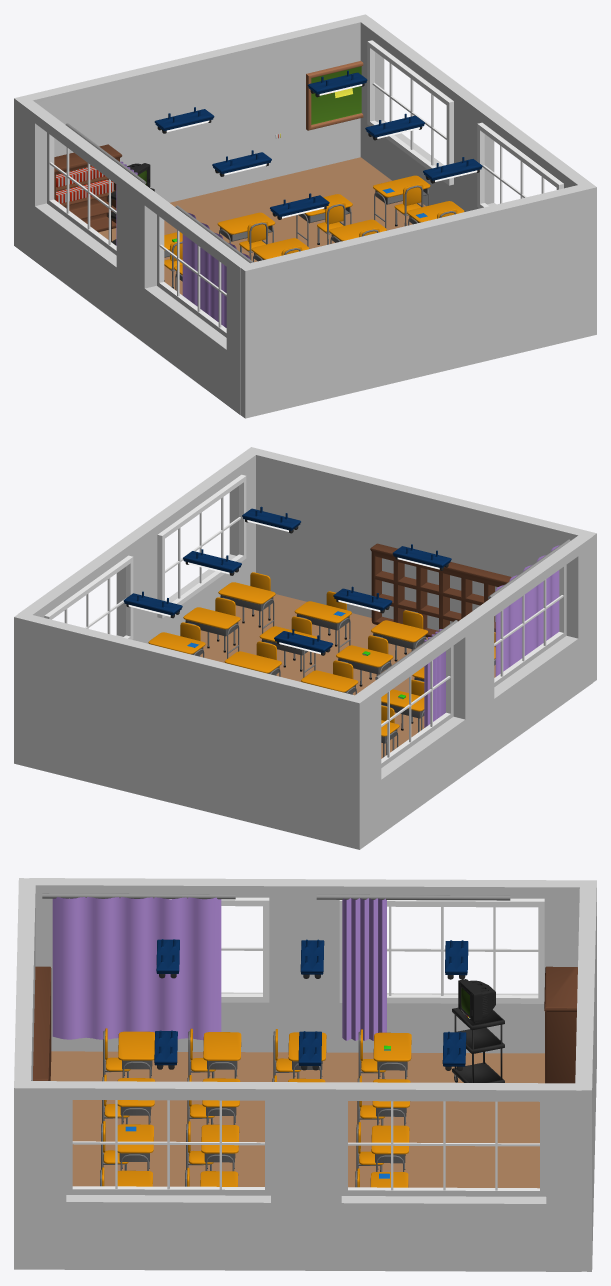
Rendered from V1_DemoClassroom.glb.
3 views of the same model, one above another, from view 1: azimuth 30°, elevation 25°; view 2: azimuth 150°, elevation 25°; view 3: azimuth 270°, elevation 25° (orthographic). The views are drawn at different scales.
Parts seen in each view (by area): view 1: demoscene_21.001, demoscene_21, demoscene_7, demoscene_10, demoscene_18, demoscene_1, demoscene_8, demoscene_15; view 2: demoscene_21, demoscene_21.001, demoscene_7, demoscene_9, demoscene_10, demoscene_18, demoscene_19; view 3: demoscene_21.001, demoscene_21, demoscene_18, demoscene_7, demoscene_19, demoscene_10, demoscene_8, demoscene_13, demoscene_9.
Boxes of the visible parts, x1,y1,x2,y2 form: demoscene_21.001: (98, 18, 596, 418); demoscene_21: (14, 14, 425, 415); demoscene_7: (164, 175, 464, 290); demoscene_10: (154, 70, 482, 219); demoscene_18: (175, 205, 253, 327); demoscene_1: (306, 61, 363, 130); demoscene_8: (54, 144, 122, 232); demoscene_15: (56, 179, 113, 203); demoscene_21: (14, 534, 592, 849); demoscene_21.001: (18, 447, 596, 758); demoscene_7: (148, 572, 495, 757); demoscene_9: (370, 543, 511, 637); demoscene_10: (123, 506, 451, 655); demoscene_18: (488, 539, 570, 676); demoscene_19: (375, 620, 457, 727); demoscene_21.001: (14, 878, 581, 1271); demoscene_21: (29, 878, 596, 1271); demoscene_18: (42, 893, 235, 1040); demoscene_7: (100, 1028, 411, 1187); demoscene_19: (316, 894, 510, 1040); demoscene_10: (154, 939, 468, 1070); demoscene_8: (544, 966, 577, 1083); demoscene_13: (452, 979, 504, 1082); demoscene_9: (33, 966, 51, 1080).
Size of the model in its own units: 8.89 by 3.54 by 10.3.
Materials: 4 (3 with a texture image).
